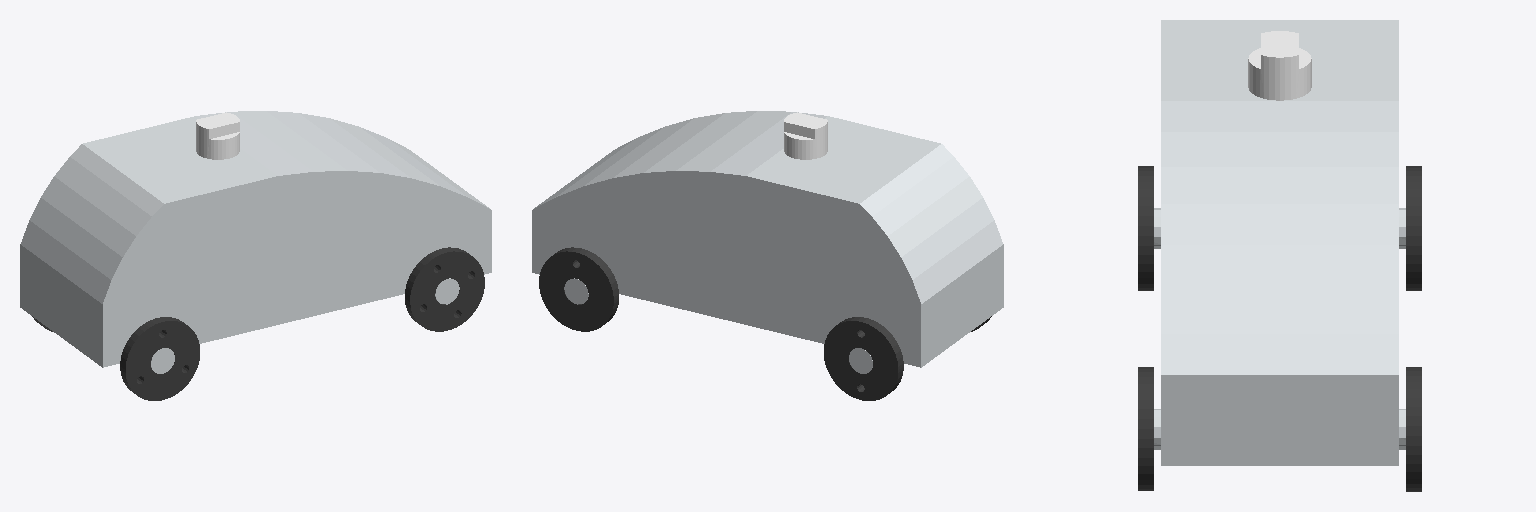
robot.urdf — myurdf_car:
<?xml version="1.0" encoding="utf-8"?>
<!-- This URDF was automatically created by SolidWorks to URDF Exporter! Originally created by [author] ([email redacted]) 
     Commit Version: 1.5.1-0-g916b5db  Build Version: 1.5.7152.31018
     For more information, please see http://wiki.ros.org/sw_urdf_exporter -->
<robot
  name="myurdf_car">
  <link
    name="base_link">
    <inertial>
      <origin
        xyz="-0.0217836190882414 -4.50830669364663E-09 -0.017654553751859"
        rpy="0 0 0" />
      <mass
        value="171.190674771565" />
      <inertia
        ixx="2.43331464774191"
        ixy="5.67845975703449E-07"
        ixz="0.393900893246942"
        iyy="9.28550806900188"
        iyz="1.35373637407791E-06"
        izz="9.45326407612339" />
    </inertial>
    <visual>
      <origin
        xyz="0 0 0"
        rpy="0 0 0" />
      <geometry>
        <mesh
          filename="package://myurdf_car/meshes/base_link.STL" />
      </geometry>
      <material
        name="">
        <color
          rgba="0.898039215686275 0.917647058823529 0.929411764705882 1" />
      </material>
    </visual>
    <collision>
      <origin
        xyz="0 0 0"
        rpy="0 0 0" />
      <geometry>
        <mesh
          filename="package://myurdf_car/meshes/base_link.STL" />
      </geometry>
    </collision>
  </link>
  <link
    name="Wheel_Link">
    <inertial>
      <origin
        xyz="0 2.77555756156289E-17 -0.000639883657516799"
        rpy="0 0 0" />
      <mass
        value="0.400663597128623" />
      <inertia
        ixx="0.000699924309025705"
        ixy="4.66183537982088E-37"
        ixz="-2.32668763119154E-21"
        iyy="0.00138740255856285"
        iyz="2.94510630349819E-22"
        izz="0.000714189156012386" />
    </inertial>
    <visual>
      <origin
        xyz="0 0 0"
        rpy="0 0 0" />
      <geometry>
        <mesh
          filename="package://myurdf_car/meshes/Wheel_Link.STL" />
      </geometry>
      <material
        name="">
        <color
          rgba="0.298039215686275 0.298039215686275 0.298039215686275 1" />
      </material>
    </visual>
    <collision>
      <origin
        xyz="0 0 0"
        rpy="0 0 0" />
      <geometry>
        <mesh
          filename="package://myurdf_car/meshes/Wheel_Link.STL" />
      </geometry>
    </collision>
  </link>
  <joint
    name="Wheel_Joint"
    type="continuous">
    <origin
      xyz="0.3 0.17 -0.15"
      rpy="0 0 0" />
    <parent
      link="base_link" />
    <child
      link="Wheel_Link" />
    <axis
      xyz="0 1 0" />
  </joint>
  <link
    name="Wheel2_Link">
    <inertial>
      <origin
        xyz="0 0 0"
        rpy="0 0 0" />
      <mass
        value="0.39600217734745" />
      <inertia
        ixx="0.000685757602960419"
        ixy="2.5307391092307E-36"
        ixz="-1.00645105727339E-19"
        iyy="0.00137331665044044"
        iyz="-7.6912236882151E-37"
        izz="0.000713959192636515" />
    </inertial>
    <visual>
      <origin
        xyz="0 0 0"
        rpy="0 0 0" />
      <geometry>
        <mesh
          filename="package://myurdf_car/meshes/Wheel2_Link.STL" />
      </geometry>
      <material
        name="">
        <color
          rgba="0.298039215686275 0.298039215686275 0.298039215686275 1" />
      </material>
    </visual>
    <collision>
      <origin
        xyz="0 0 0"
        rpy="0 0 0" />
      <geometry>
        <mesh
          filename="package://myurdf_car/meshes/Wheel2_Link.STL" />
      </geometry>
    </collision>
  </link>
  <joint
    name="Whee2_Joint"
    type="continuous">
    <origin
      xyz="-0.3 0.17 -0.15"
      rpy="0 0 0" />
    <parent
      link="base_link" />
    <child
      link="Wheel2_Link" />
    <axis
      xyz="0 1 0" />
  </joint>
  <link
    name="Wheel3_Link">
    <inertial>
      <origin
        xyz="1.66533453693773E-16 2.77555756156289E-17 6.10622663543836E-16"
        rpy="0 0 0" />
      <mass
        value="0.391340757566269" />
      <inertia
        ixx="0.000692578037003565"
        ixy="-9.58867766072042E-23"
        ixz="2.19388944877155E-18"
        iyy="0.00135906669016937"
        iyz="2.39716941517572E-22"
        izz="0.000692578037003552" />
    </inertial>
    <visual>
      <origin
        xyz="0 0 0"
        rpy="0 0 0" />
      <geometry>
        <mesh
          filename="package://myurdf_car/meshes/Wheel3_Link.STL" />
      </geometry>
      <material
        name="">
        <color
          rgba="0.298039215686275 0.298039215686275 0.298039215686275 1" />
      </material>
    </visual>
    <collision>
      <origin
        xyz="0 0 0"
        rpy="0 0 0" />
      <geometry>
        <mesh
          filename="package://myurdf_car/meshes/Wheel3_Link.STL" />
      </geometry>
    </collision>
  </link>
  <joint
    name="Whee3_Joint"
    type="continuous">
    <origin
      xyz="-0.3 -0.17 -0.15"
      rpy="0 0 0" />
    <parent
      link="base_link" />
    <child
      link="Wheel3_Link" />
    <axis
      xyz="0 1 0" />
  </joint>
  <link
    name="Wheel4_Link">
    <inertial>
      <origin
        xyz="6.10622663543836E-16 0 8.32667268468867E-17"
        rpy="0 0 0" />
      <mass
        value="0.386679337785096" />
      <inertia
        ixx="0.000685297676208663"
        ixy="-6.06643673334809E-22"
        ixz="-4.89501994579465E-19"
        iyy="0.00134481672989832"
        iyz="3.6692673181664E-22"
        izz="0.000685297676208664" />
    </inertial>
    <visual>
      <origin
        xyz="0 0 0"
        rpy="0 0 0" />
      <geometry>
        <mesh
          filename="package://myurdf_car/meshes/Wheel4_Link.STL" />
      </geometry>
      <material
        name="">
        <color
          rgba="0.298039215686275 0.298039215686275 0.298039215686275 1" />
      </material>
    </visual>
    <collision>
      <origin
        xyz="0 0 0"
        rpy="0 0 0" />
      <geometry>
        <mesh
          filename="package://myurdf_car/meshes/Wheel4_Link.STL" />
      </geometry>
    </collision>
  </link>
  <joint
    name="Wheel4_Joint"
    type="continuous">
    <origin
      xyz="0.3 -0.17 -0.15"
      rpy="0 0 0" />
    <parent
      link="base_link" />
    <child
      link="Wheel4_Link" />
    <axis
      xyz="0 1 0" />
  </joint>
  <link
    name="Laser_Link">
    <inertial>
      <origin
        xyz="0 5.81825857978919E-19 0.0279025304346337"
        rpy="0 0 0" />
      <mass
        value="0.278425320808367" />
      <inertia
        ixx="0.000173736355796535"
        ixy="-2.4802043828446E-21"
        ixz="-5.58689444242172E-21"
        iyy="0.000195127306196535"
        iyz="5.03944535251026E-22"
        izz="0.000212044781446694" />
    </inertial>
    <visual>
      <origin
        xyz="0 0 0"
        rpy="0 0 0" />
      <geometry>
        <mesh
          filename="package://myurdf_car/meshes/Laser_Link.STL" />
      </geometry>
      <material
        name="">
        <color
          rgba="1 1 1 1" />
      </material>
    </visual>
    <collision>
      <origin
        xyz="0 0 0"
        rpy="0 0 0" />
      <geometry>
        <mesh
          filename="package://myurdf_car/meshes/Laser_Link.STL" />
      </geometry>
    </collision>
  </link>
  <joint
    name="Laser_Joint"
    type="fixed">
    <origin
      xyz="-0.08 0 0.15"
      rpy="0 0 0" />
    <parent
      link="base_link" />
    <child
      link="Laser_Link" />
    <axis
      xyz="0 0 0" />
  </joint>
</robot>

--- What the picture shows (computed from the rendered views, not written in the file) ---
3 views of the same robot in one strip: view 1: azimuth 30°, elevation 25°; view 2: azimuth 150°, elevation 25°; view 3: azimuth 270°, elevation 25° (orthographic).
Robot: myurdf_car — 6 links, 5 joints (4 continuous, 1 fixed); root link base_link; default pose: all joints at 0.
Visible links, largest first — view 1: base_link, Wheel4_Link, Wheel3_Link, Laser_Link; view 2: base_link, Wheel_Link, Wheel2_Link, Laser_Link; view 3: base_link, Laser_Link, Wheel_Link, Wheel2_Link, Wheel3_Link, Wheel4_Link.
Link boxes in pixels (bbox=[...]): base_link: bbox=[20, 111, 491, 373]; Wheel4_Link: bbox=[405, 247, 484, 331]; Wheel3_Link: bbox=[120, 317, 199, 400]; Laser_Link: bbox=[196, 112, 239, 159]; base_link: bbox=[532, 111, 1003, 373]; Wheel_Link: bbox=[539, 247, 618, 331]; Wheel2_Link: bbox=[824, 317, 903, 400]; Laser_Link: bbox=[784, 112, 827, 159]; base_link: bbox=[1154, 20, 1405, 465]; Laser_Link: bbox=[1248, 31, 1311, 100]; Wheel_Link: bbox=[1406, 367, 1421, 491]; Wheel2_Link: bbox=[1406, 166, 1421, 290]; Wheel3_Link: bbox=[1138, 166, 1153, 290]; Wheel4_Link: bbox=[1138, 367, 1153, 490].
Bounding box of the posed robot: 0.82 × 0.36 × 0.4389 m (x, y, z).
6 mesh visuals loaded from 6 distinct referenced files (6 binary STL).